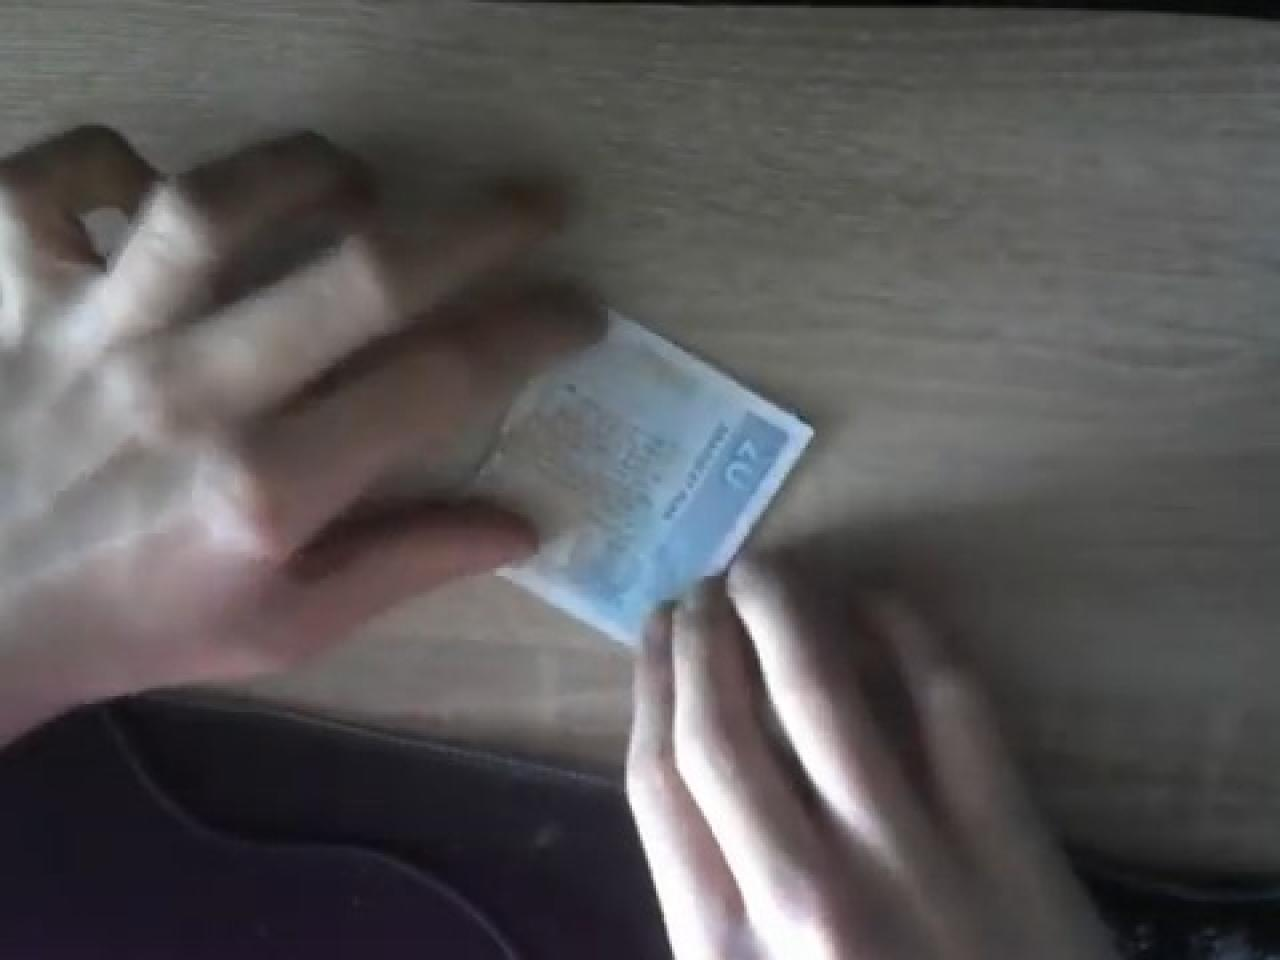20leva: (293, 285, 816, 645)
